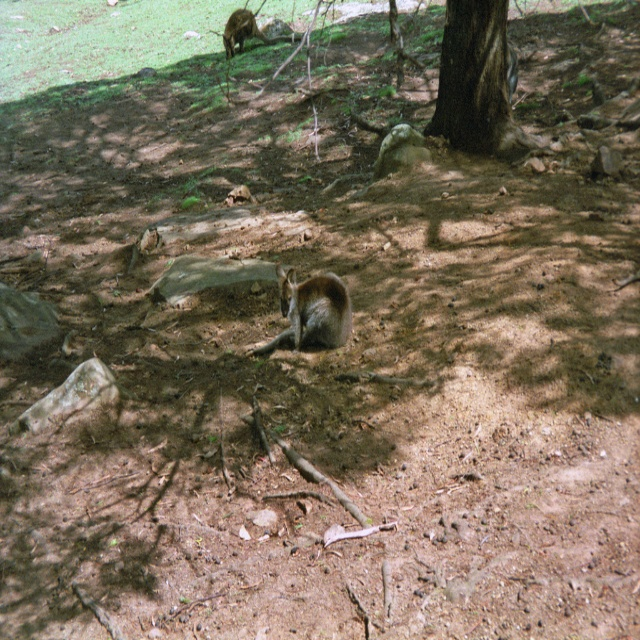Kangaroo: (263, 264, 354, 347)
